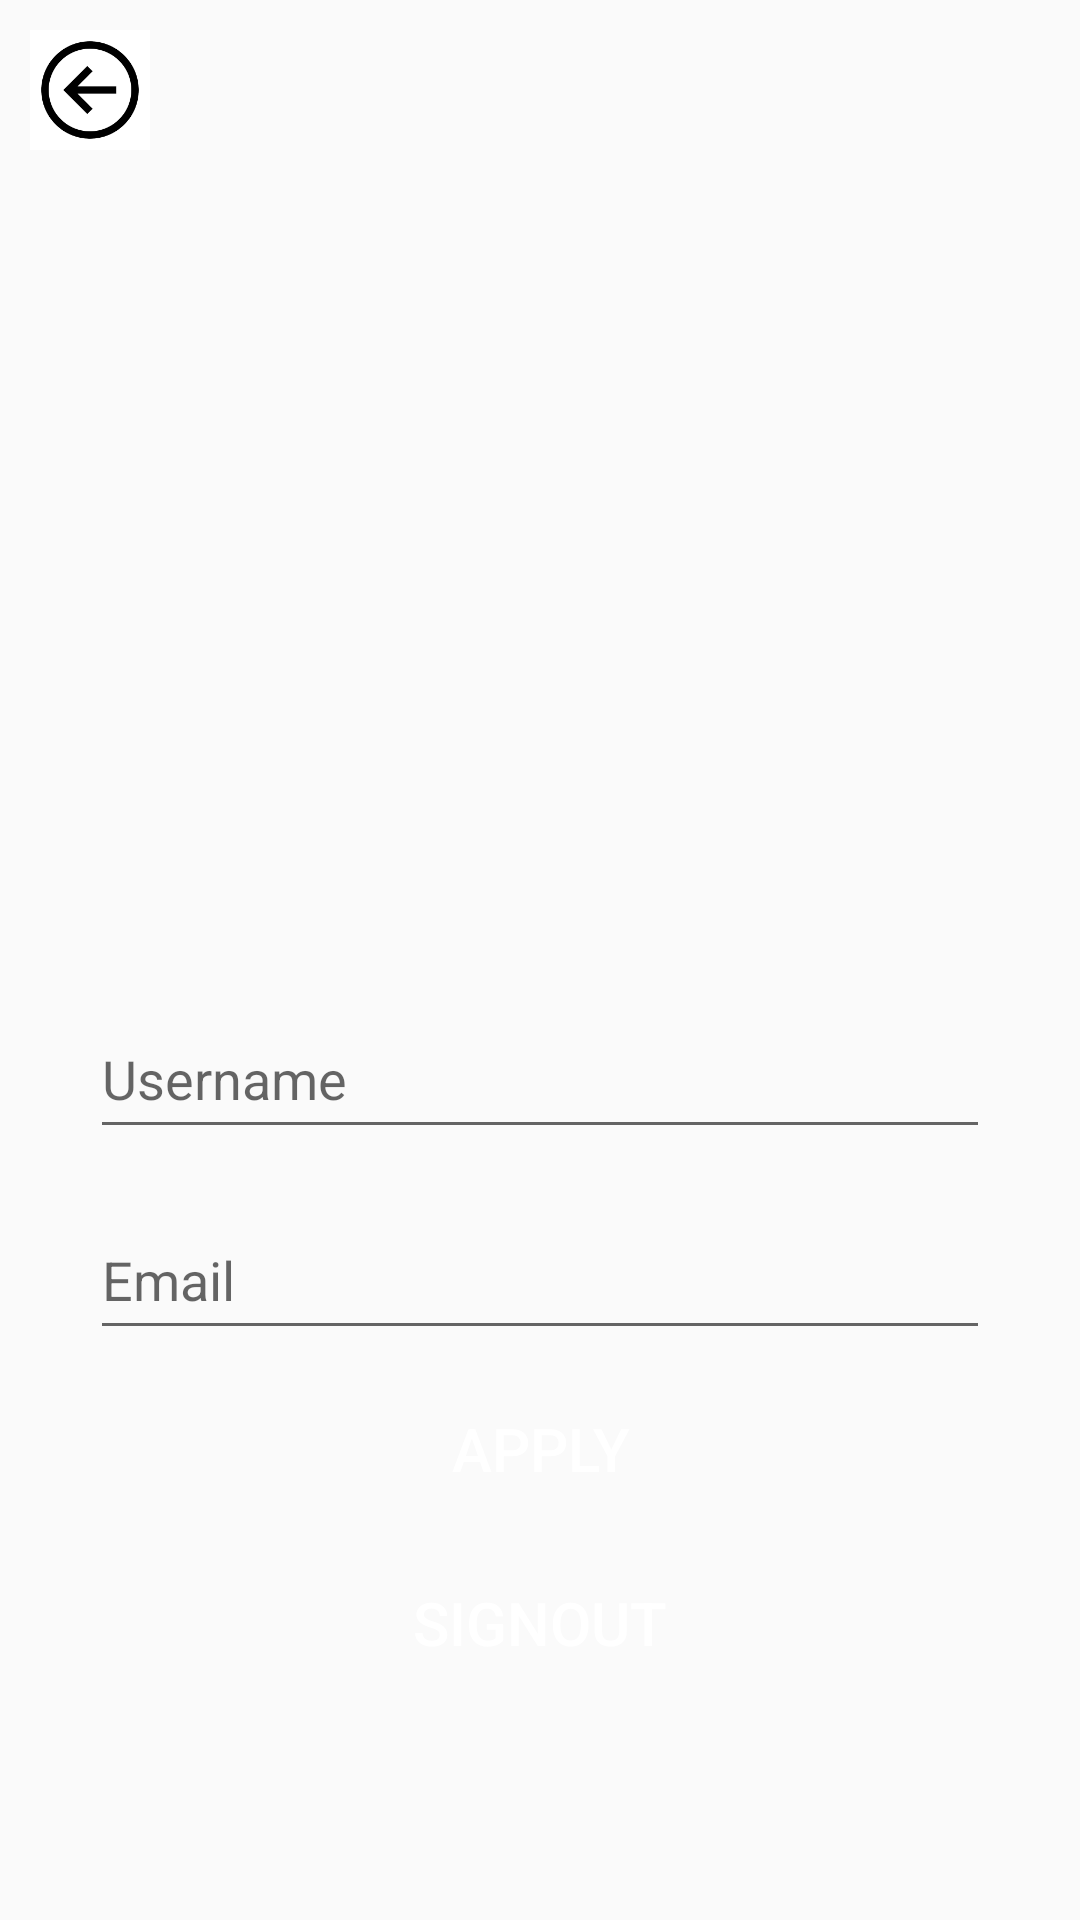

Icon bounding boxes for this 1080x1920 phone screenshot, format region(x1, y1, x2, y2):
back: region(41, 41, 139, 139)
